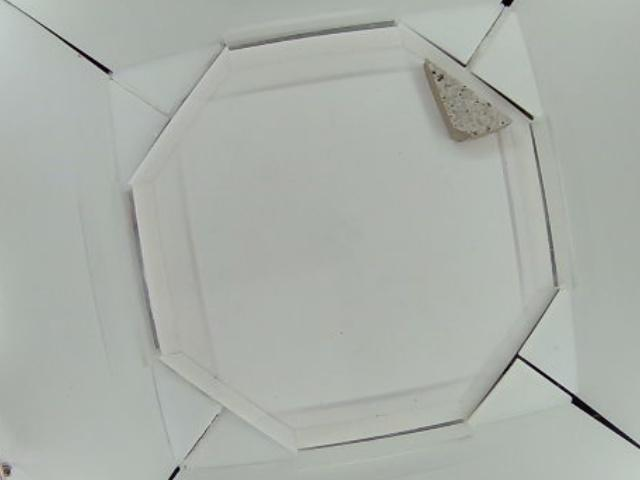China: (426, 59, 511, 139)
